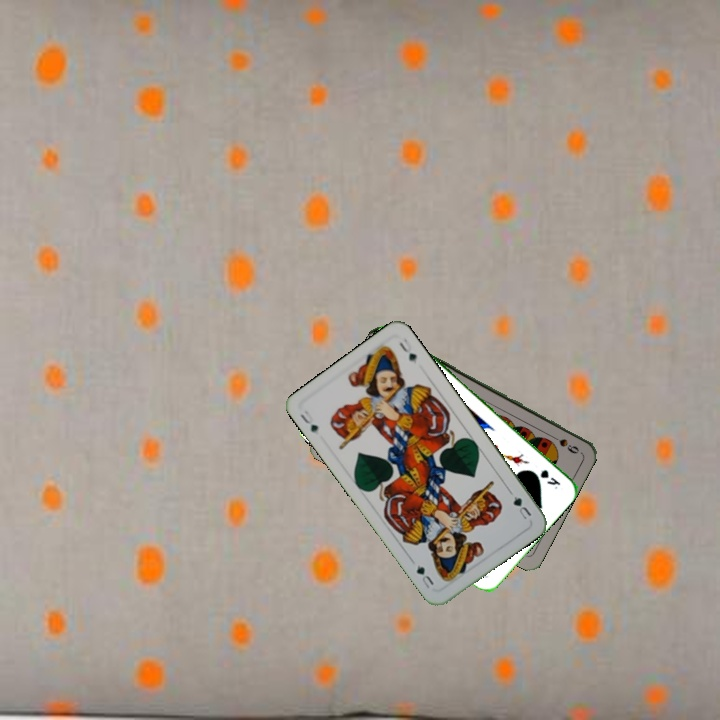GK: (536, 465, 563, 492)
GU: (509, 492, 534, 522), (296, 406, 321, 435)
S9: (545, 430, 582, 455)
